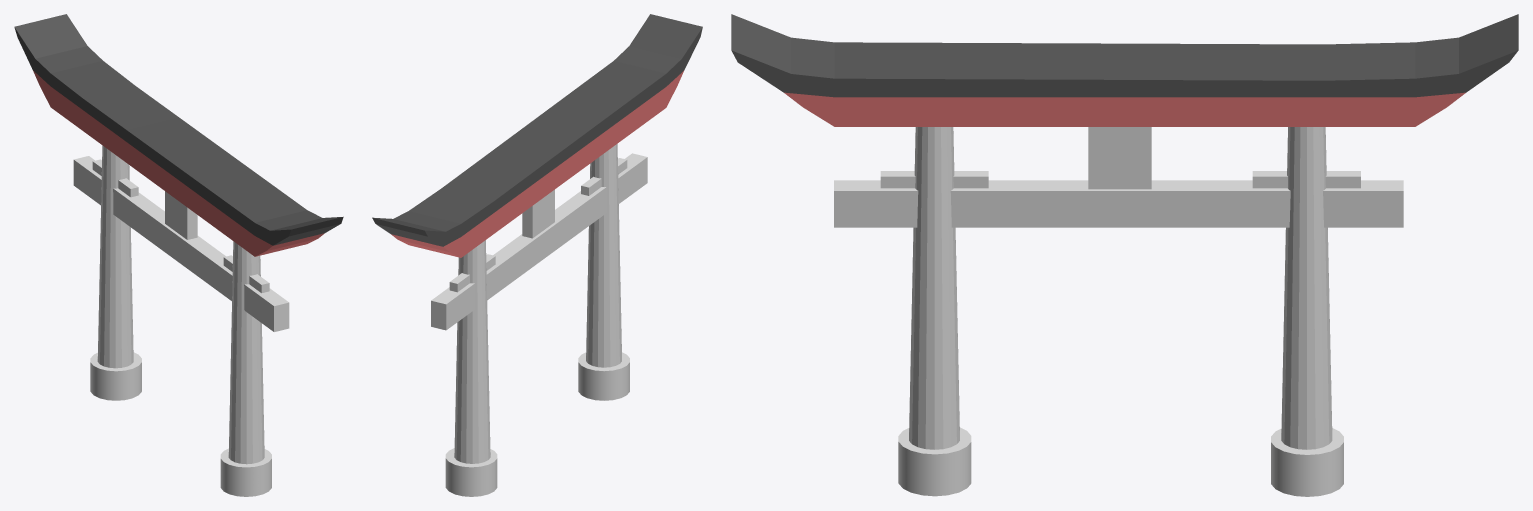
The model's file is Torii Gate.fbx.
The picture shows the model from 3 angles, left to right: view 1: azimuth 30°, elevation 25°; view 2: azimuth 150°, elevation 25°; view 3: azimuth 270°, elevation 25°; orthographic projection. The views are drawn at different scales.
Parts seen in each view (by area): view 1: TopBlock, Block6, Cylinder002, Cylinder001; view 2: TopBlock, Block6, Cylinder001, Cylinder002; view 3: TopBlock, Block6, Cylinder002, Cylinder001.
Boxes of the visible parts, x1,y1,x2,y2 form: TopBlock: (14, 14, 343, 256); Block6: (73, 145, 289, 464); Cylinder002: (220, 448, 271, 496); Cylinder001: (90, 352, 141, 400); TopBlock: (372, 14, 702, 257); Block6: (431, 144, 647, 463); Cylinder001: (445, 448, 497, 496); Cylinder002: (578, 352, 629, 400); TopBlock: (731, 14, 1518, 126); Block6: (834, 127, 1403, 449); Cylinder002: (898, 427, 971, 496); Cylinder001: (1271, 428, 1343, 496).
Bounding box in the file's own units: 86.84 × 500 × 796.
